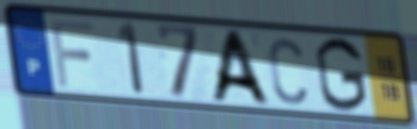1: (115, 20, 147, 98)
7: (155, 21, 203, 102)
A: (206, 28, 274, 108)
C: (266, 34, 310, 107)
F: (47, 17, 97, 90)
G: (313, 34, 370, 115)
